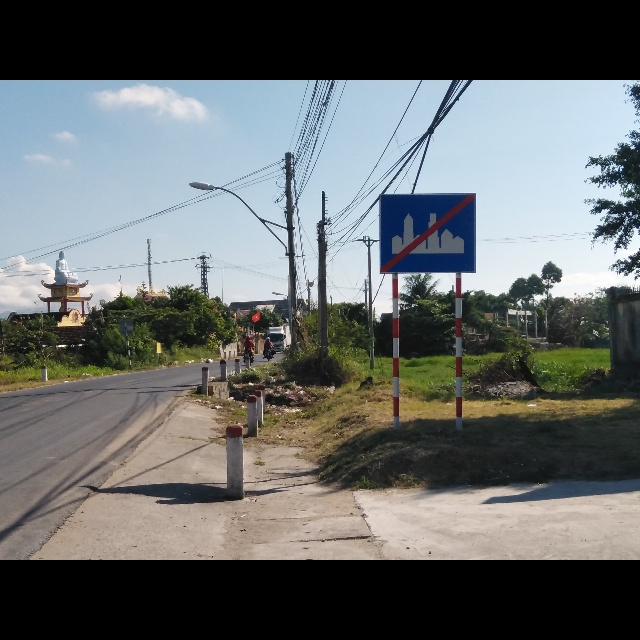Hết khu đông dân cư: (378, 192, 477, 273)
